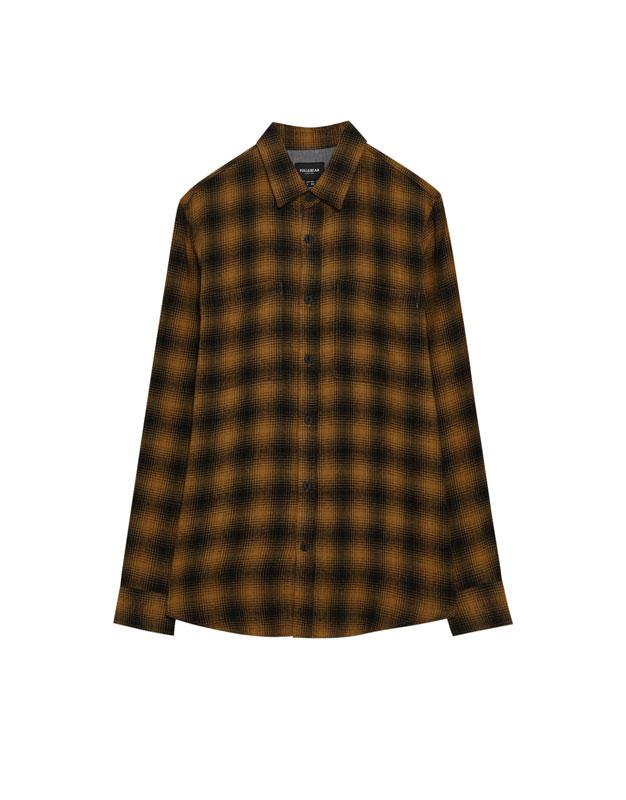teeshirt: (102, 107, 540, 648)
